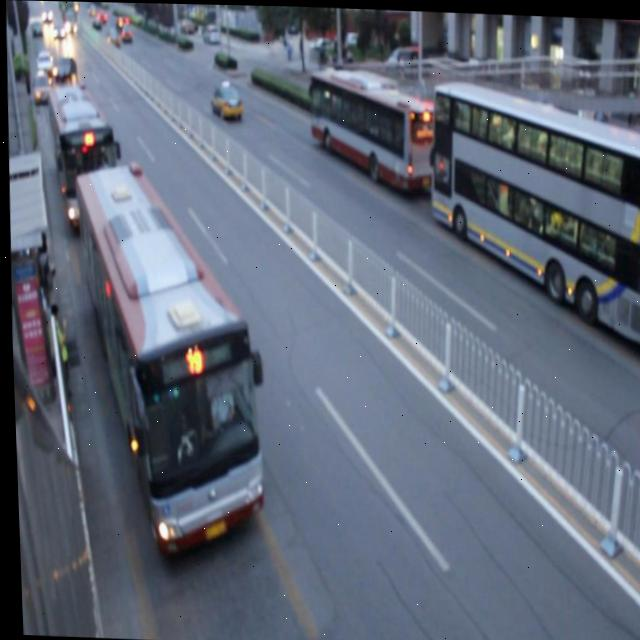car: (207, 80, 241, 120)
van: (65, 170, 264, 536), (425, 78, 640, 340), (304, 67, 439, 192), (43, 81, 118, 226)
